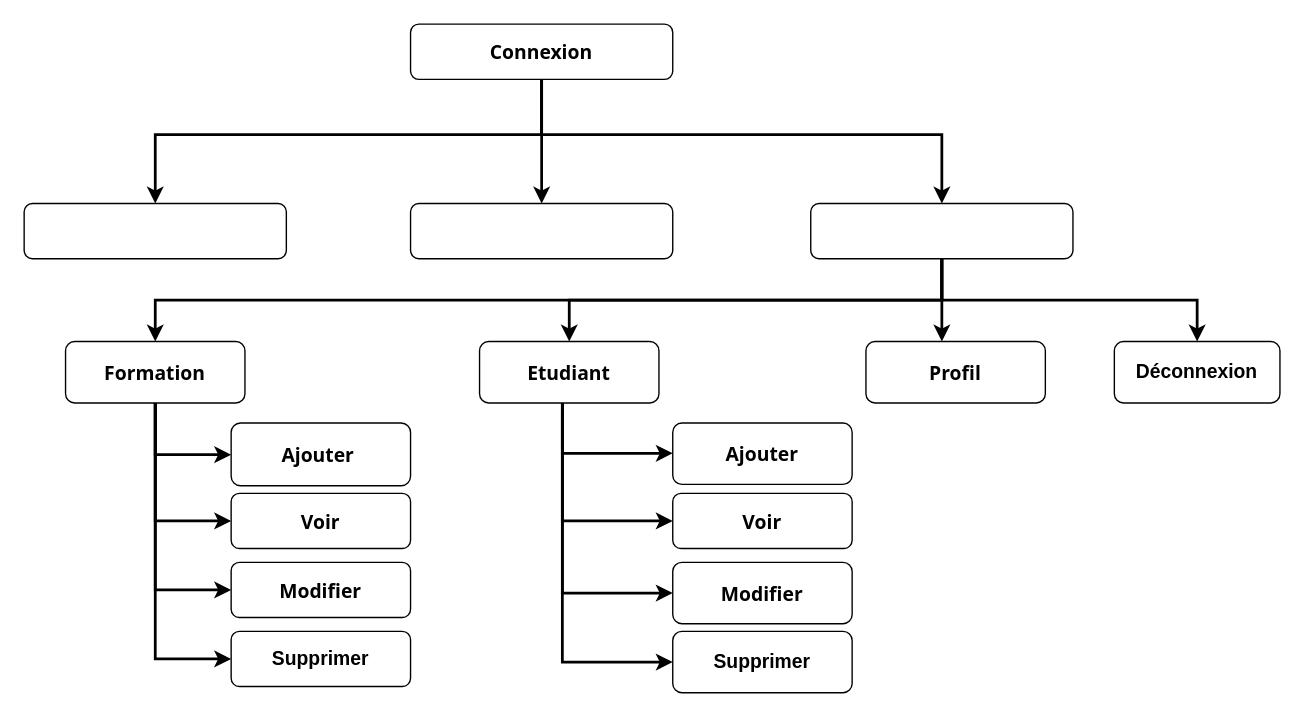
The diagram is 1304 pixels wide and 718 high, and some of its shapes have lost their labels. Here are the shapes that lost their labels. From the top down, the centre of each, then its label:
At (x=154, y=230): "Mot de passe oublié".
At (x=541, y=230): "Création nouveau compte".
At (x=941, y=230): "Accueil Admin".
